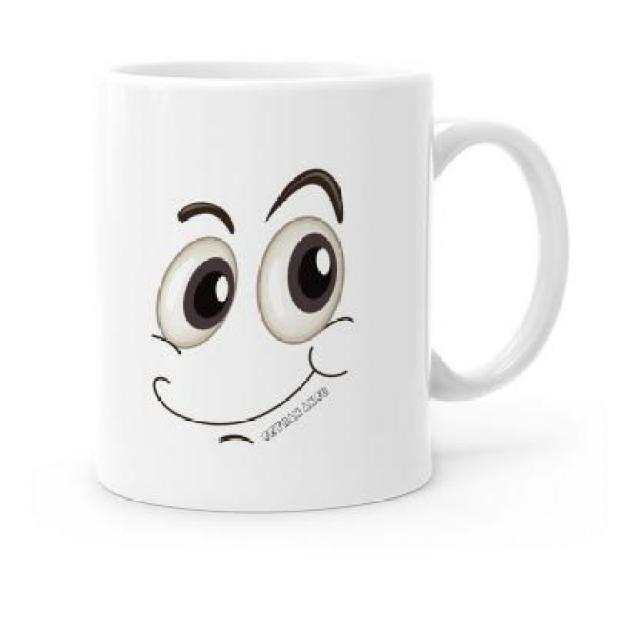taza: (75, 58, 600, 516)
